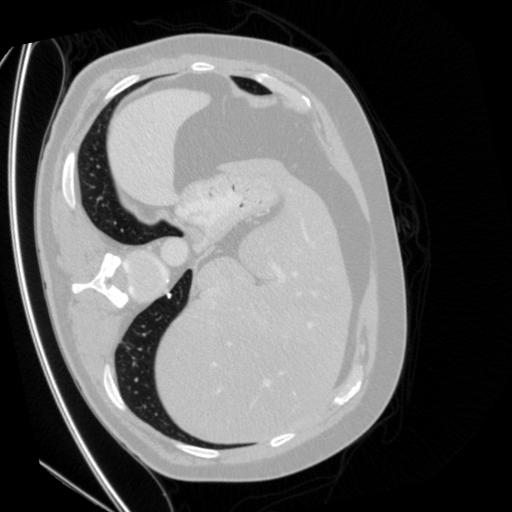nodule: (165, 291, 177, 303)
